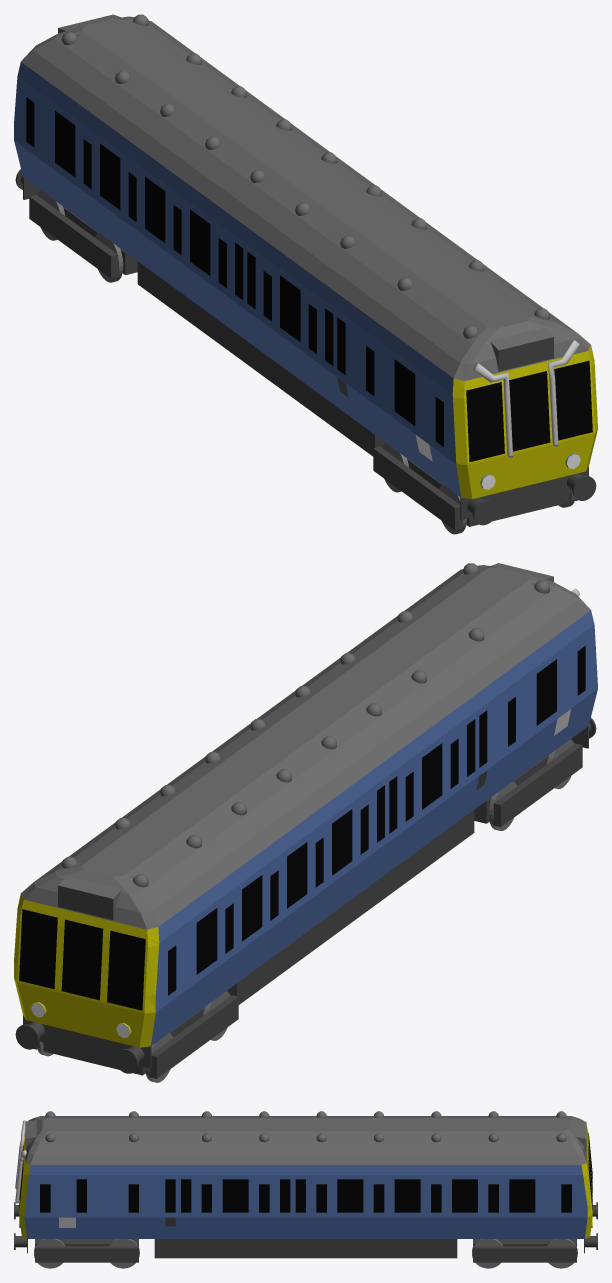
3 views of the same model, one above another, from view 1: azimuth 30°, elevation 25°; view 2: azimuth 150°, elevation 25°; view 3: azimuth 270°, elevation 25° (orthographic). The views are drawn at different scales.
Parts seen in each view (by area): view 1: Plane_002, Cube_012, Plane_011, Plane_008, Cube_004, Cube_001, Plane_001, Cube_006, Cube_008, Plane_053, Plane_048, Plane_038 (+6 smaller); view 2: Plane_002, Cube_012, Plane_003, Plane_005, Plane_004, Cube_001, Cube_004, Cube_007, Cube_009, Plane_037, Plane_038, Plane_042 (+4 smaller); view 3: Plane_002, Cube_012, Cube, Cube_005, Plane_013, Plane_018, Plane_019, Plane_027, Plane_025, Cube_002, Cube_003, Plane_006 (+20 smaller).
Part boxes in pixels (left/top/right/bottom): Plane_002: left=14, top=16, right=597, bottom=498; Cube_012: left=137, top=261, right=384, bottom=456; Plane_011: left=509, top=371, right=550, bottom=451; Plane_008: left=466, top=382, right=504, bottom=462; Cube_004: left=29, top=195, right=118, bottom=278; Cube_001: left=373, top=446, right=462, bottom=530; Plane_001: left=554, top=360, right=592, bottom=440; Cube_006: left=478, top=314, right=553, bottom=371; Cube_008: left=460, top=467, right=588, bottom=519; Plane_053: left=394, top=359, right=415, bottom=425; Plane_048: left=280, top=275, right=300, bottom=342; Plane_038: left=100, top=143, right=120, bottom=209; Plane_002: left=14, top=565, right=597, bottom=1047; Cube_012: left=227, top=810, right=474, bottom=1004; Plane_003: left=61, top=919, right=103, bottom=1000; Plane_005: left=19, top=909, right=57, bottom=989; Plane_004: left=107, top=930, right=145, bottom=1010; Cube_001: left=493, top=743, right=582, bottom=827; Cube_004: left=149, top=995, right=238, bottom=1078; Cube_007: left=58, top=863, right=133, bottom=919; Cube_009: left=23, top=1015, right=151, bottom=1068; Plane_037: left=196, top=908, right=217, bottom=974; Plane_038: left=242, top=875, right=262, bottom=941; Plane_042: left=332, top=809, right=352, bottom=875; Plane_002: left=19, top=1116, right=592, bottom=1238; Cube_012: left=154, top=1239, right=457, bottom=1258; Cube: left=35, top=1246, right=138, bottom=1262; Cube_005: left=473, top=1246, right=576, bottom=1262; Plane_013: left=222, top=1179, right=248, bottom=1212; Plane_018: left=337, top=1179, right=363, bottom=1212; Plane_019: left=394, top=1179, right=420, bottom=1212; Plane_027: left=509, top=1179, right=535, bottom=1212; Plane_025: left=452, top=1179, right=477, bottom=1212; Cube_002: left=35, top=1239, right=138, bottom=1246; Cube_003: left=473, top=1239, right=576, bottom=1246; Plane_006: left=76, top=1179, right=86, bottom=1212.
Size of the model in its own units: 2 by 11.2 by 2.71.
